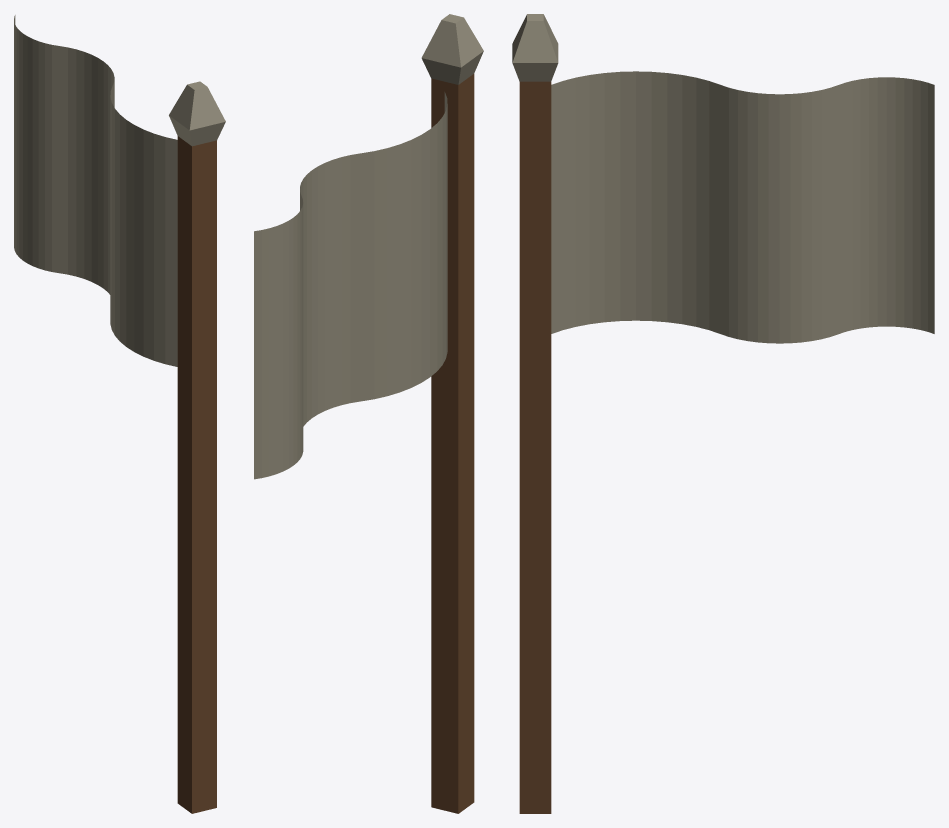
The model's file is flagBlueWide.glb.
The picture shows the model from 3 angles, left to right: view 1: azimuth 30°, elevation 25°; view 2: azimuth 150°, elevation 25°; view 3: azimuth 270°, elevation 25°; orthographic projection. The views are drawn at different scales.
Visible parts, largest first — view 1: mesh_1, mesh_0; view 2: mesh_1, mesh_0; view 3: mesh_1, mesh_0.
Part boxes in pixels (<box>): mesh_1: <box>14,15,225,366</box>; mesh_0: <box>177,136,216,813</box>; mesh_1: <box>254,14,483,479</box>; mesh_0: <box>431,74,474,813</box>; mesh_1: <box>512,14,934,343</box>; mesh_0: <box>519,81,551,813</box>.
Size of the model in its own units: 0.4988 by 7.92 by 3.84.
